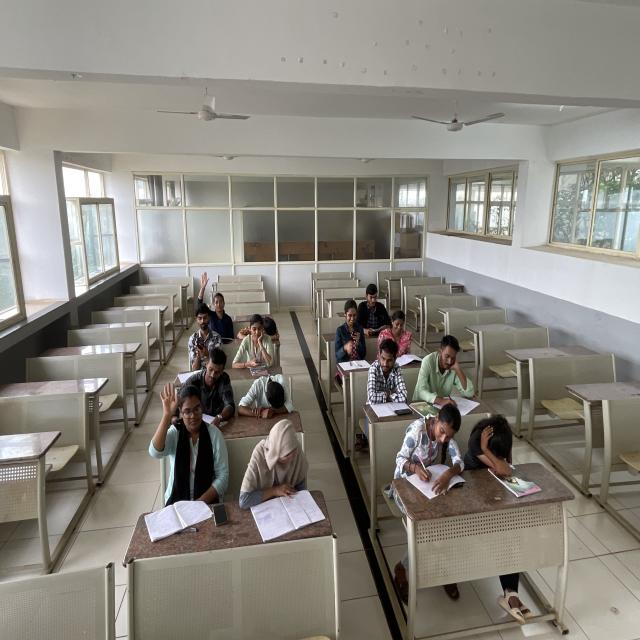Hand Rising: (146, 380, 229, 498), (197, 268, 237, 329)
Reading: (241, 418, 332, 529), (381, 310, 424, 364), (356, 284, 393, 338)
Sleeping: (466, 409, 523, 478), (240, 371, 300, 418)
Using Phone: (185, 302, 225, 361), (333, 299, 374, 356), (236, 317, 277, 372)
Writing: (394, 402, 466, 497), (416, 334, 477, 412)
